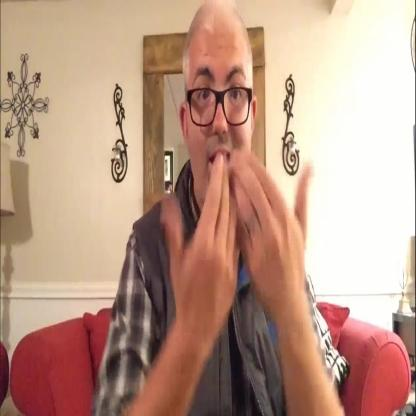HowAreYou: (145, 136, 323, 338)
